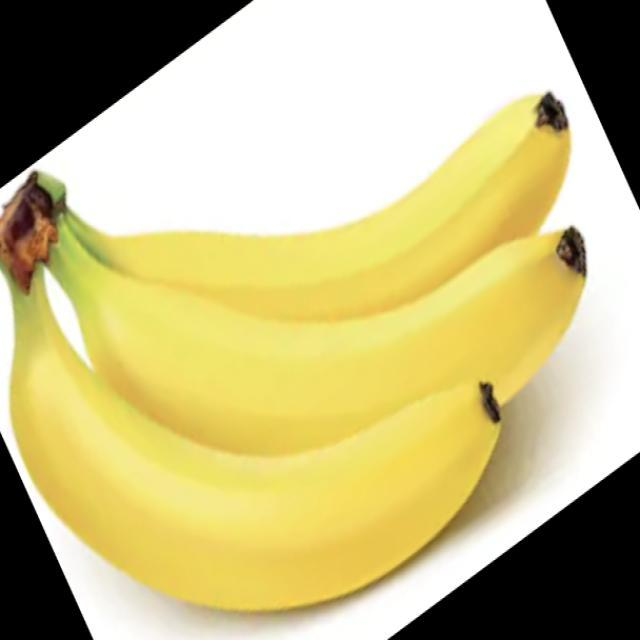Banana: (0, 90, 587, 612)
